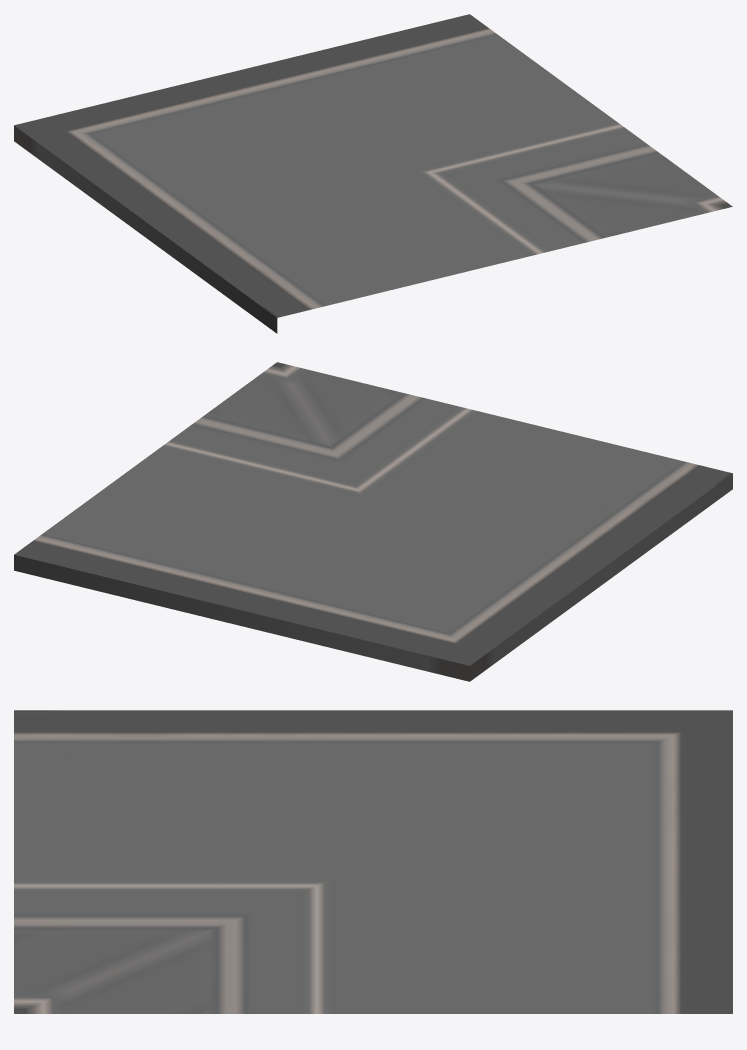
Rendered from BottomMetal_Corner_Square_Outer_2.gltf.
3 views of the same model, one above another, from view 1: azimuth 30°, elevation 25°; view 2: azimuth 150°, elevation 25°; view 3: azimuth 270°, elevation 25° (orthographic). The views are drawn at different scales.
Parts seen in each view (by area): view 1: BottomMetal_Corner_Square_Outer_2; view 2: BottomMetal_Corner_Square_Outer_2; view 3: BottomMetal_Corner_Square_Outer_2.
Boxes of the visible parts, x1,y1,x2,y2 form: BottomMetal_Corner_Square_Outer_2: (14,14,732,333); BottomMetal_Corner_Square_Outer_2: (14,362,732,681); BottomMetal_Corner_Square_Outer_2: (14,710,732,1013).
Size of the model in its own units: 0.6 by 0.02 by 0.6.
Materials: 2 (2 with a texture image).
